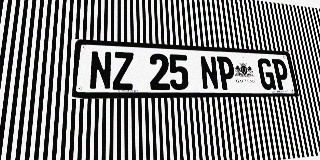2: (149, 53, 170, 90)
5: (169, 54, 189, 90)
G: (257, 58, 276, 90)
N: (89, 50, 112, 90), (199, 55, 219, 90)
P: (216, 56, 236, 90), (271, 59, 291, 90)
Z: (112, 51, 134, 90)
